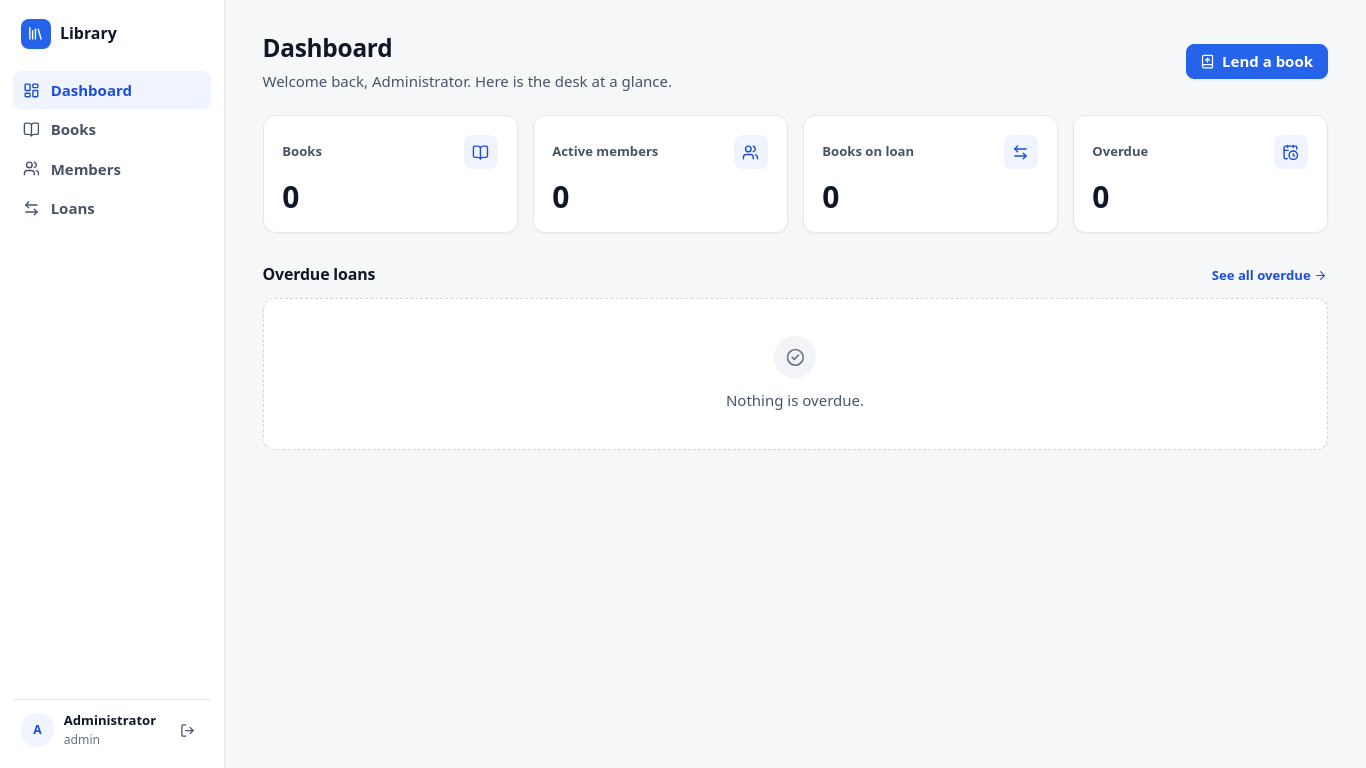
Test: App › logs out back to the login page
The width and height of the screenshot is (1366, 768).
Click the button named "Log out": [187, 730] box [171,715,203,745]
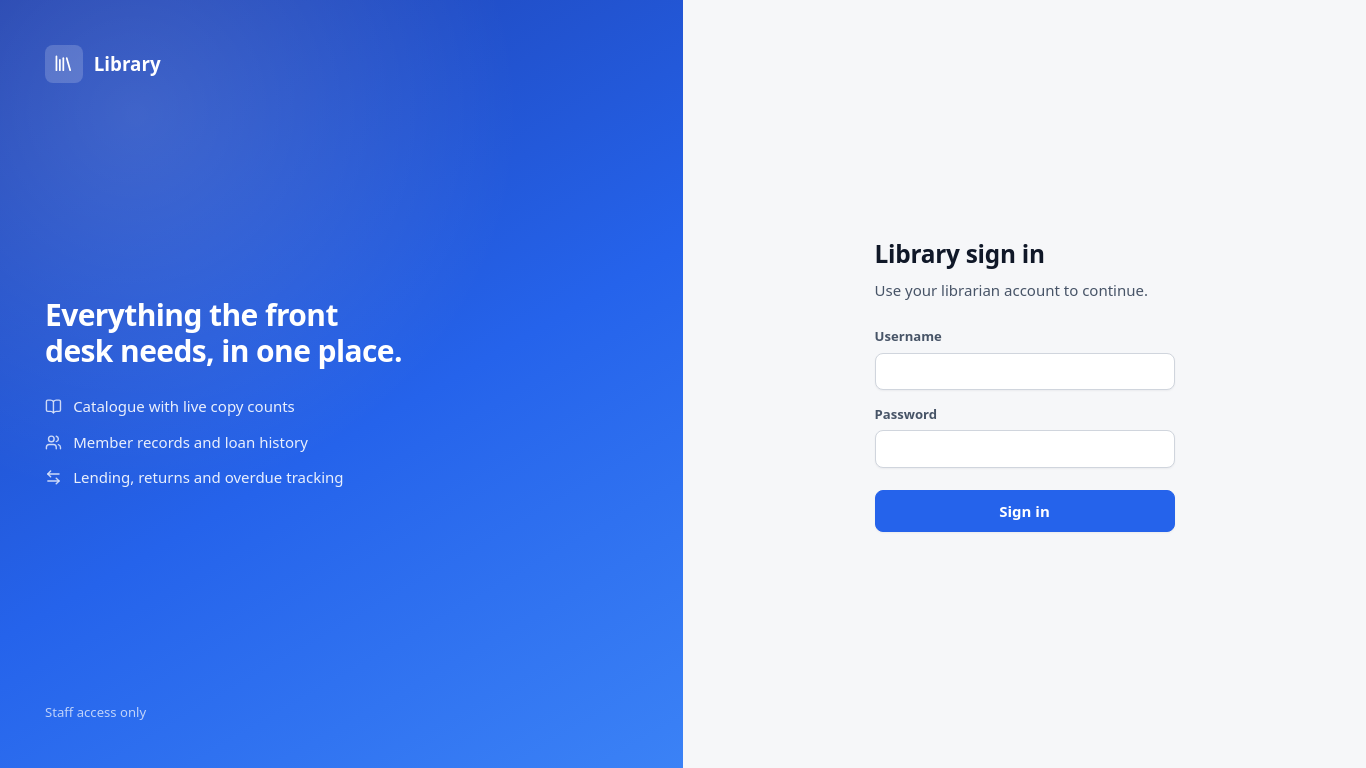
Check: the heading "Library sign in" is shown, box [874,237,1045,270]
